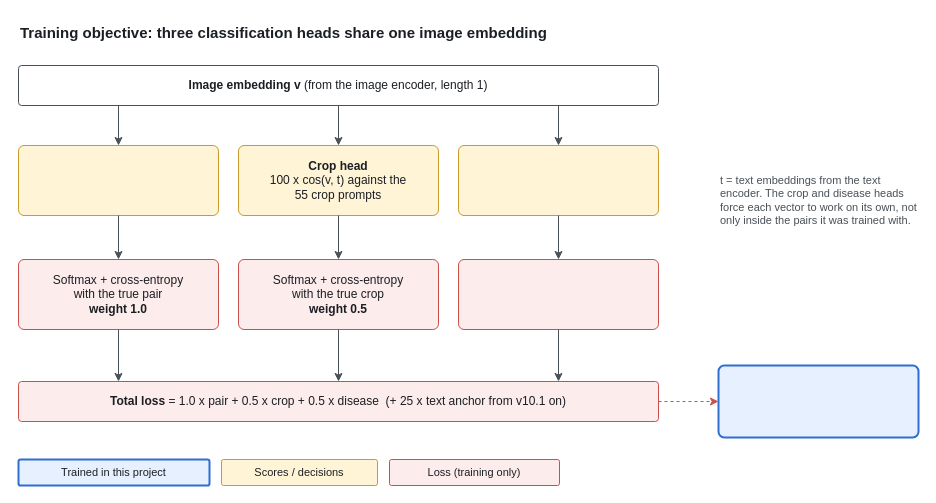
The diagram is 936 pixels wide and 503 high, and some of its shapes have lost their labels. The box of each missing label's shape, as (x1, y1, x2, y2) in pixels:
Disease head 100 x cos(v, t) against the 175 disease prompts: (458, 144, 658, 216)
Pair head 100 x cos(v, t) against the seen pair prompts (323): (18, 144, 218, 216)
Softmax + cross-entropy with the true disease weight 0.5: (458, 258, 658, 330)
Updated by the gradient crop and disease vectors LoRA matrices A and B: (717, 364, 919, 438)
